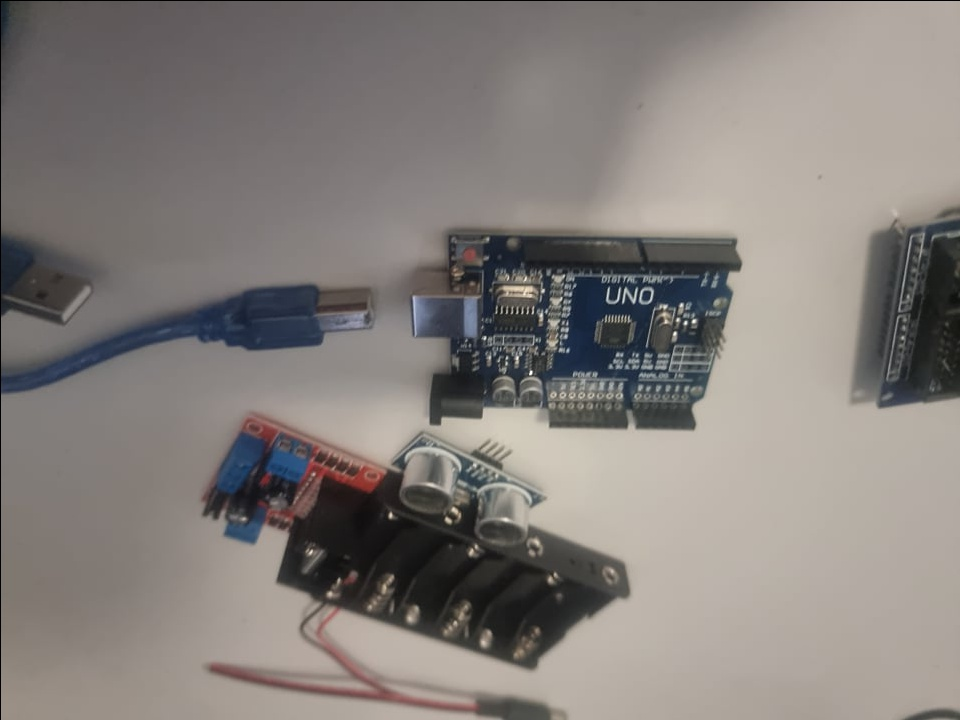BATTERY BOX: (350, 524, 629, 672)
MOTOR: (200, 411, 384, 597)
SENSOR: (395, 434, 538, 543)
UNO R3: (407, 222, 744, 440)
